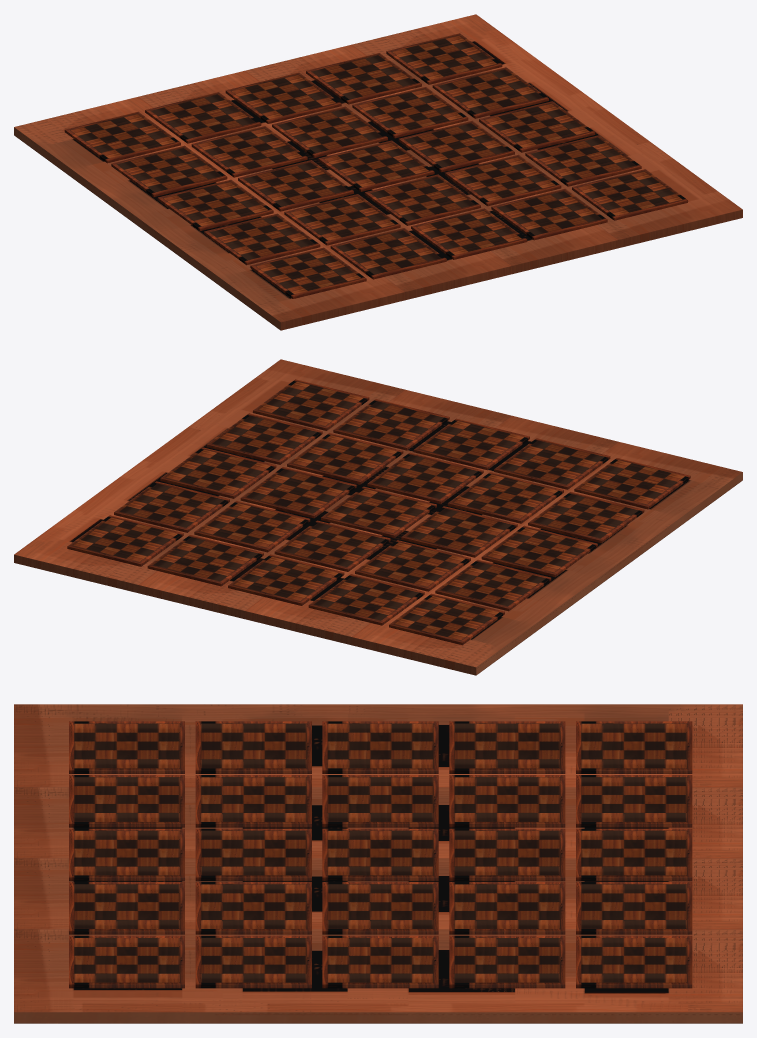
Rendered from Sapphia-5x5.fbx.
3 renders of one model, top to bottom at view 1: azimuth 30°, elevation 25°; view 2: azimuth 150°, elevation 25°; view 3: azimuth 270°, elevation 25°, orthographic. The views are drawn at different scales.
Parts seen in each view (by area): view 1: SapphiaBoard5x5; view 2: SapphiaBoard5x5; view 3: SapphiaBoard5x5.
Boxes of the visible parts, x1,y1,x2,y2 form: SapphiaBoard5x5: (14,14,742,330); SapphiaBoard5x5: (14,359,742,675); SapphiaBoard5x5: (14,704,742,1023).
Size of the model in its own units: 863 by 20.45 by 863.
